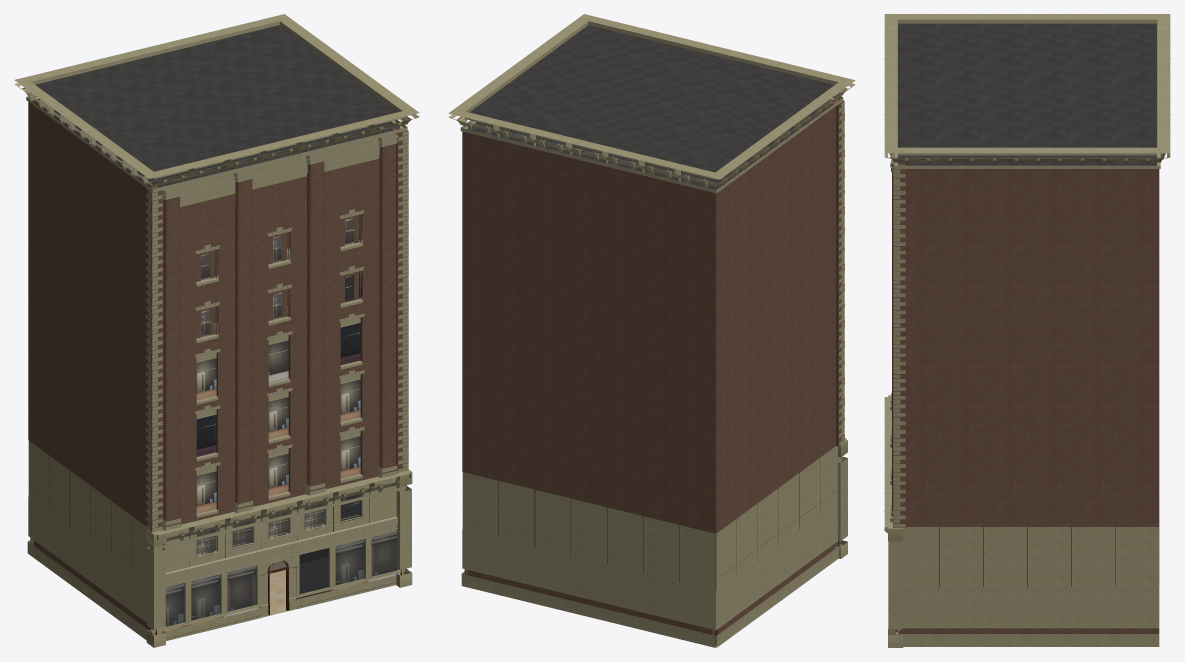
Rendered from Building_Medium_2_001.glb.
3 renders of one model, left to right at view 1: azimuth 30°, elevation 25°; view 2: azimuth 150°, elevation 25°; view 3: azimuth 270°, elevation 25°, orthographic. The views are drawn at different scales.
Parts seen in each view (by area): view 1: Building_Medium_2.001; view 2: Building_Medium_2.001; view 3: Building_Medium_2.001.
Part boxes in pixels (<box>): Building_Medium_2.001: <box>14,14,419,647</box>; Building_Medium_2.001: <box>448,14,855,647</box>; Building_Medium_2.001: <box>884,14,1170,647</box>.
Size of the model in its own units: 15.03 by 25.01 by 13.03.
8 materials, 7 textured.
